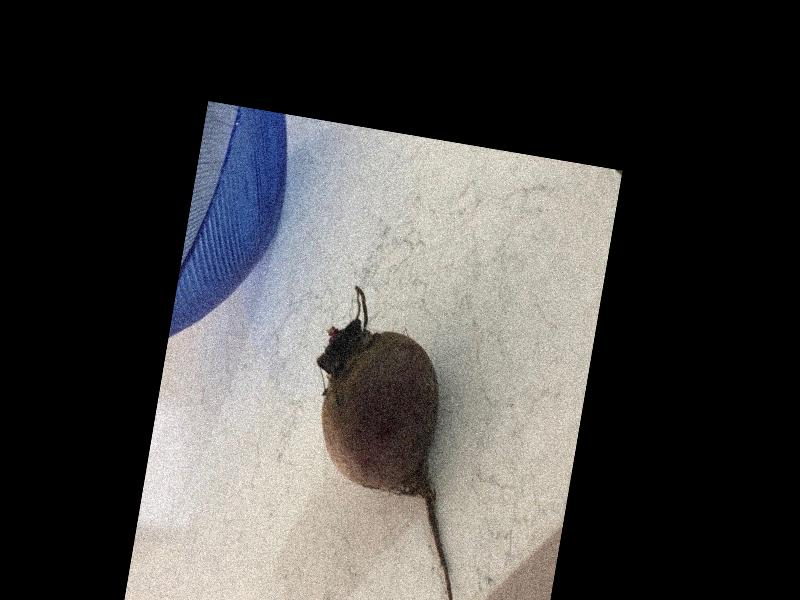Beet: (279, 283, 504, 600)
